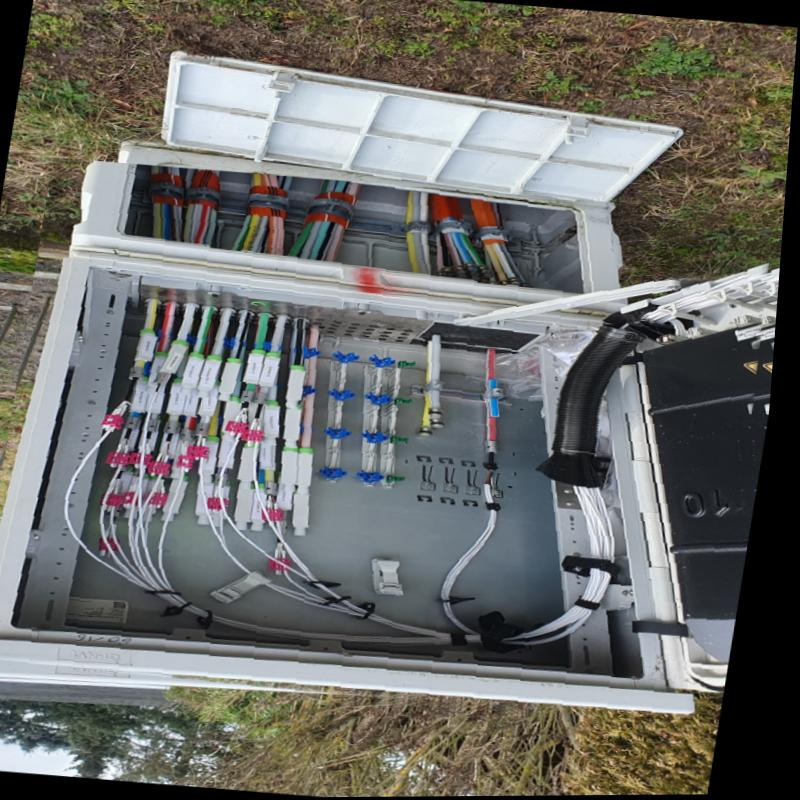NT-Gehause: (0, 162, 778, 714)
